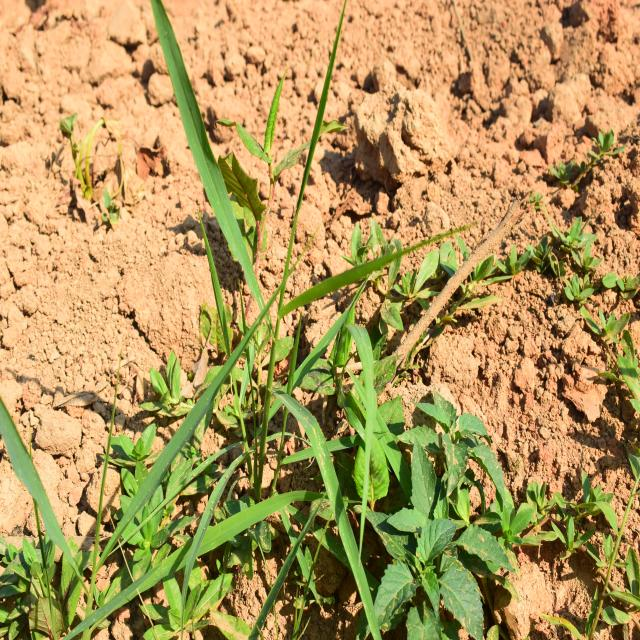green_foxtail: (158, 48, 384, 546)
